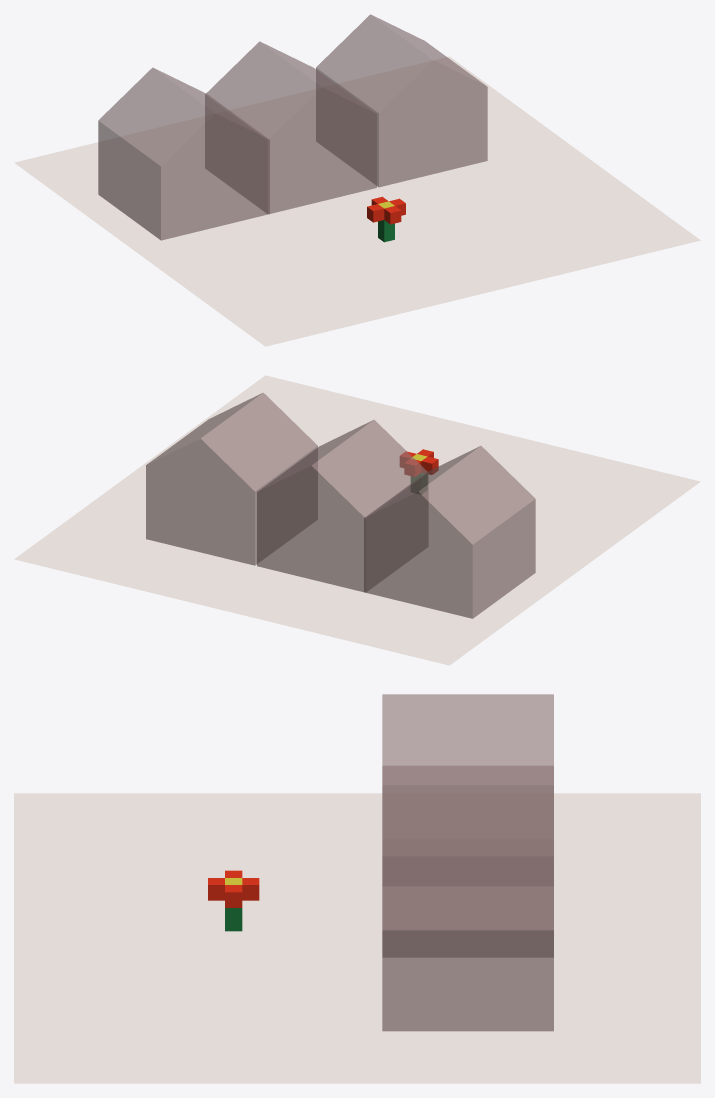
3 renders of one model, top to bottom at view 1: azimuth 30°, elevation 25°; view 2: azimuth 150°, elevation 25°; view 3: azimuth 270°, elevation 25°, orthographic. The views are drawn at different scales.
Visible parts, largest first — view 1: Plane, Building_Prefab_02 (2), Building_Prefab_02, Building_Prefab_02 (1), Flower; view 2: Plane, Building_Prefab_02 (2), Building_Prefab_02, Building_Prefab_02 (1), Flower; view 3: Plane, Building_Prefab_02 (1), Building_Prefab_02, Building_Prefab_02 (2), Flower.
Part boxes in pixels (x1,y1,x2,y2): Plane: (14, 56, 700, 346); Building_Prefab_02 (2): (98, 67, 269, 240); Building_Prefab_02: (205, 41, 376, 214); Building_Prefab_02 (1): (316, 14, 487, 187); Flower: (367, 196, 405, 242); Plane: (14, 375, 700, 665); Building_Prefab_02 (2): (364, 446, 535, 618); Building_Prefab_02: (257, 420, 428, 592); Building_Prefab_02 (1): (146, 393, 317, 565); Flower: (400, 449, 438, 493); Plane: (14, 793, 700, 1083); Building_Prefab_02 (1): (382, 839, 553, 1031); Building_Prefab_02: (382, 765, 553, 957); Building_Prefab_02 (2): (382, 694, 553, 838); Flower: (208, 870, 259, 931).
Size of the model in its own units: 0.4 by 0.1004 by 0.4.
Materials: 3 (1 with a texture image).
